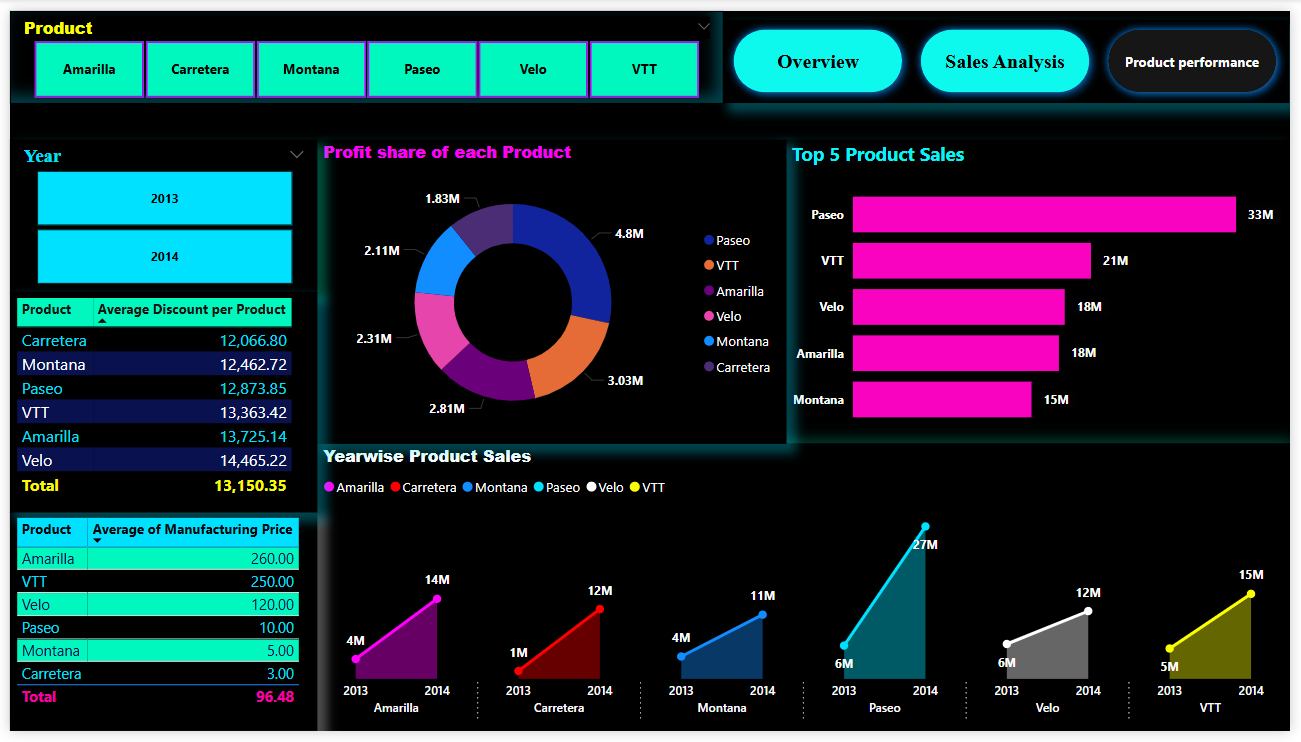

What the dashboard file says about the page in this screenshot:
{"tool":"powerbi","page":{"name":" Product performance","canvas":[1280,720],"ordinal":11},"visuals":[{"type":"pageNavigator","box":[714.1,8.6,565.6,83.4],"z":0},{"type":"barChart","title":"Top 5 Product Sales","fields":{"Category":["financials.Product"],"Y":["Sum(financials. Sales)"]},"box":[776.2,128.8,503.8,303.8],"z":1000},{"type":"lineChart","title":"Yearwise Product Sales","fields":{"Category":["financials.Product","financials.Date.Variation.Date Hierarchy.Year"],"Series":["financials.Product"],"Y":["Sum(financials. Sales)"]},"box":[307.5,432.5,972.5,287.5],"z":2000},{"type":"donutChart","title":"Profit share of each Product","fields":{"Category":["financials.Product"],"Y":["Sum(financials.Profit)"]},"box":[307.5,128.8,468.8,303.8],"z":3000},{"type":"tableEx","fields":{"Values":["financials.Product","Avg(financials.Manufacturing Price)"]},"box":[0,501.2,307.5,218.8],"z":4000},{"type":"slicer","fields":{"Values":["financials.Date.Variation.Date Hierarchy.Year"]},"box":[0,128.8,307.5,152.5],"z":5000},{"type":"slicer","fields":{"Values":["financials.Product"]},"box":[0,0,713.8,92.5],"z":6000},{"type":"tableEx","fields":{"Values":["financials.Product","Avg(financials.Discounts)"]},"box":[0,281.2,307.5,220],"z":7000}]}

Visuals, with their boxes in screenshot pixels (x1, y1, x2, y2), scaled from the page's 1280x720 canvas onto the 1301x742 screenshot:
pageNavigator: 726:9:1300:95
"Top 5 Product Sales" barChart: 789:133:1300:446
"Yearwise Product Sales" lineChart: 313:446:1300:741
"Profit share of each Product" donutChart: 313:133:789:446
tableEx - financials.Product x Avg(financials.Manufacturing Price): 0:517:313:741
slicer - financials.Date.Variation.Date Hierarchy.Year: 0:133:313:290
slicer - financials.Product: 0:0:726:95
tableEx - financials.Product x Avg(financials.Discounts): 0:290:313:517
